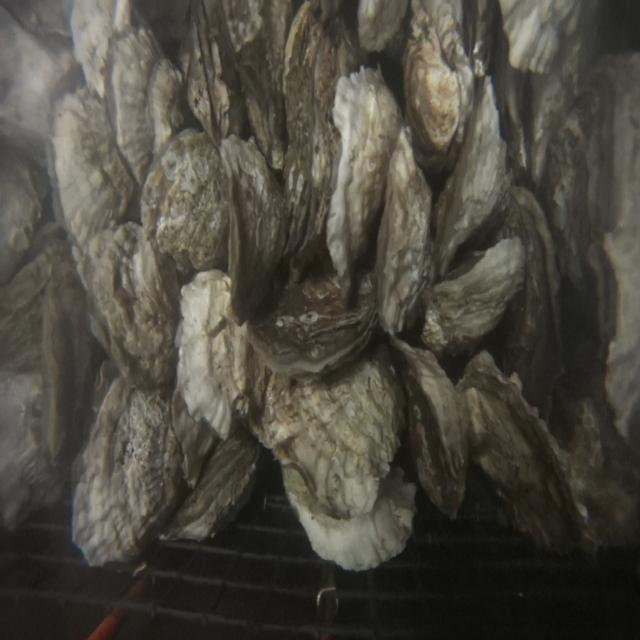Oyster- Indeterminate: (550, 53, 640, 453), (244, 338, 401, 520), (456, 350, 584, 549), (0, 241, 82, 523), (70, 0, 191, 176), (72, 377, 174, 567), (72, 225, 182, 394), (326, 65, 402, 294), (53, 72, 137, 239), (282, 464, 414, 569), (218, 135, 288, 324), (142, 131, 232, 272), (566, 388, 640, 557), (174, 270, 246, 440), (223, 0, 288, 169), (426, 239, 524, 351), (378, 129, 431, 334), (406, 0, 474, 153), (510, 51, 570, 183), (485, 39, 534, 180), (502, 0, 589, 76), (355, 0, 409, 52), (82, 350, 116, 424)
Oyster-Closed: (283, 0, 357, 273), (249, 283, 377, 375)
Oyster-Open: (382, 336, 467, 522), (431, 76, 504, 279), (508, 179, 564, 412), (164, 418, 260, 540), (187, 0, 230, 140), (164, 387, 219, 491), (457, 0, 496, 88)
